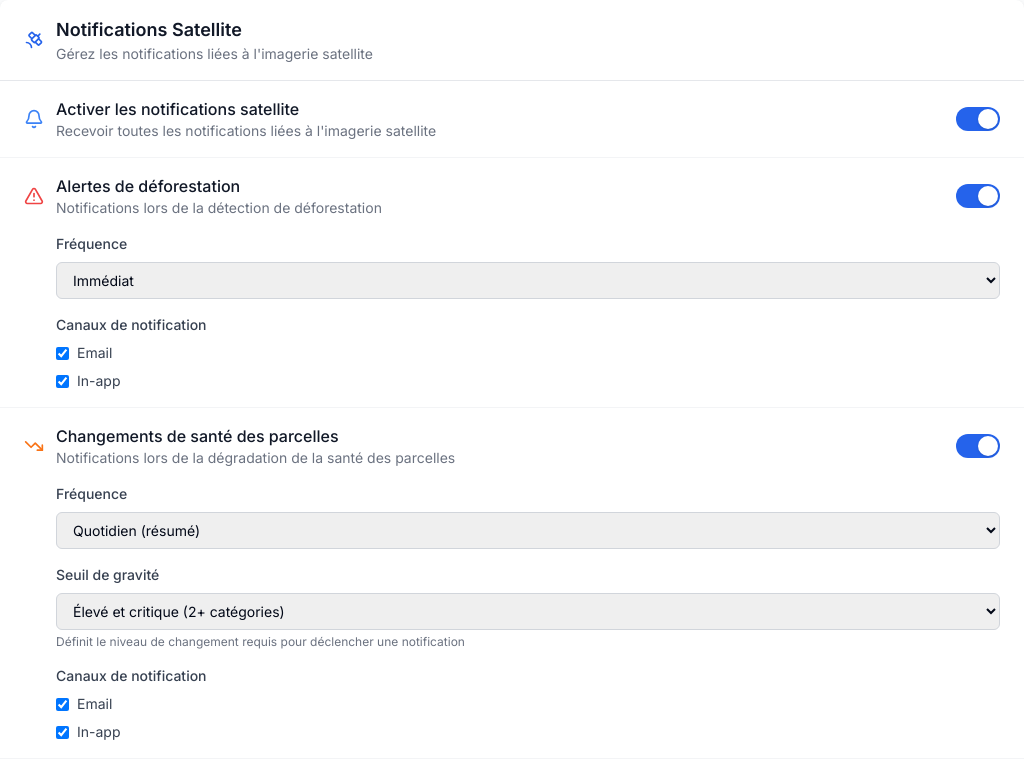
SatelliteNotificationPreferences › Global Toggle › should disable all sub-options when global toggle is off
The image size is (1024, 768).
expect the text "Activer les notifications satellite" is shown: met, box [56,99,299,119]
Step 1. Click the switch in the row of "Activer les notifications satellite" → (978, 119), box [956,107,1000,131]
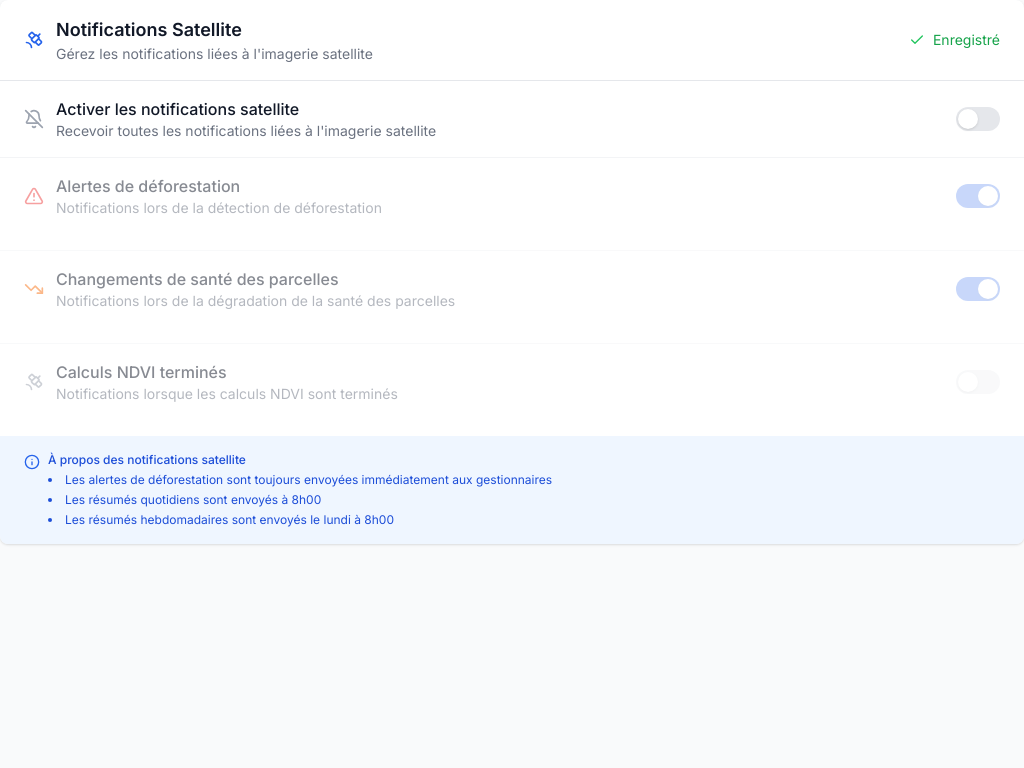
expect the 2nd switch is disabled: met, box [956,184,1000,208]
